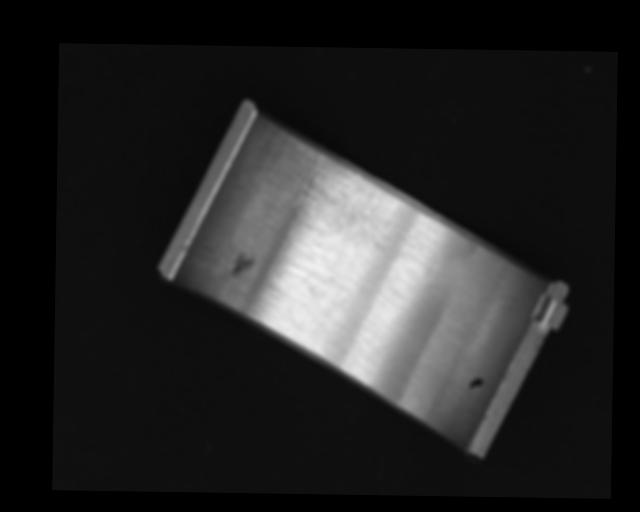blot: (468, 376, 484, 391)
bruise: (230, 251, 256, 275)
scratch: (280, 135, 388, 235)
